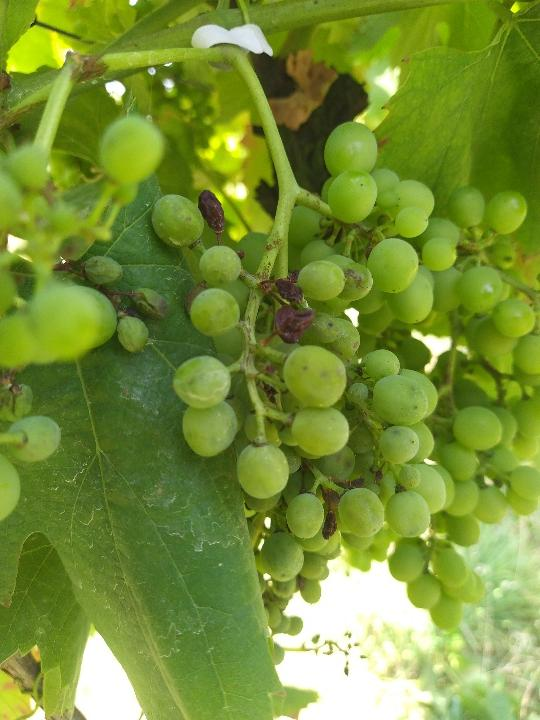grape: (150, 118, 441, 587)
